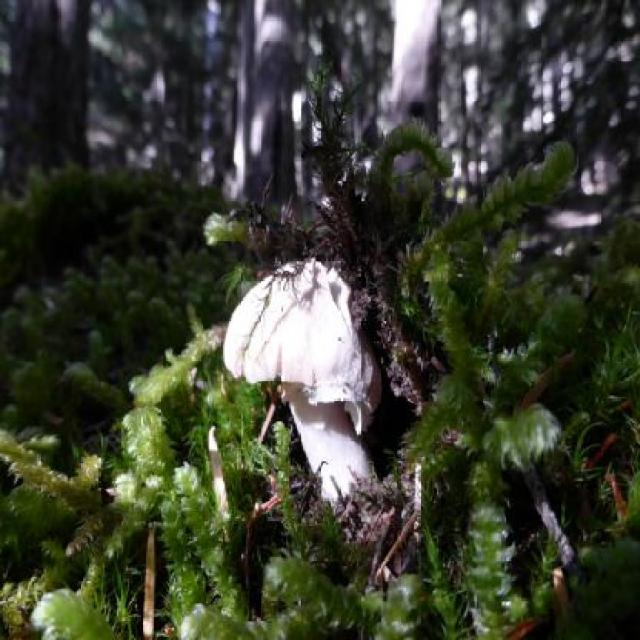Mushroom: (220, 257, 388, 511)
